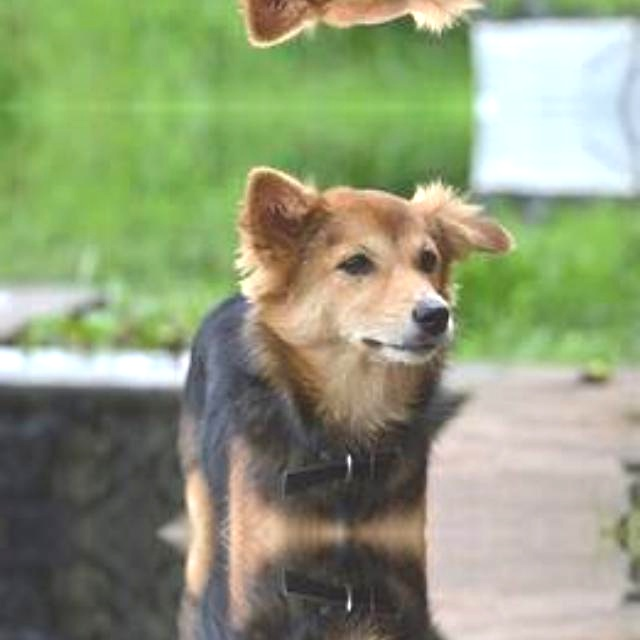dog: (166, 161, 520, 528), (166, 536, 520, 640), (166, 0, 520, 50)
